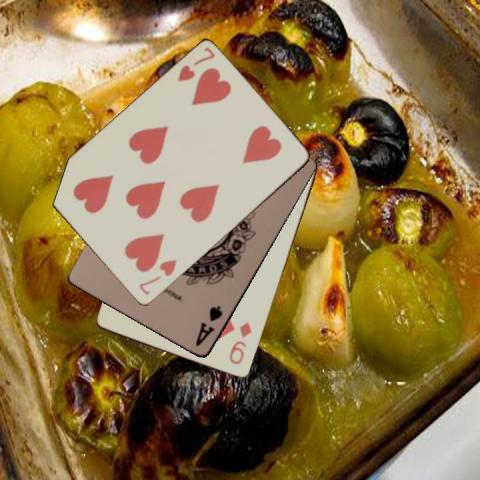7h: (174, 44, 217, 84), (136, 257, 178, 297)
9d: (226, 318, 253, 366)
As: (192, 302, 224, 348)
